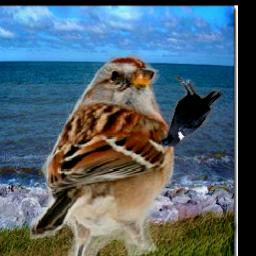Crow: (160, 74, 222, 147)
Sparrow: (30, 54, 175, 256)
